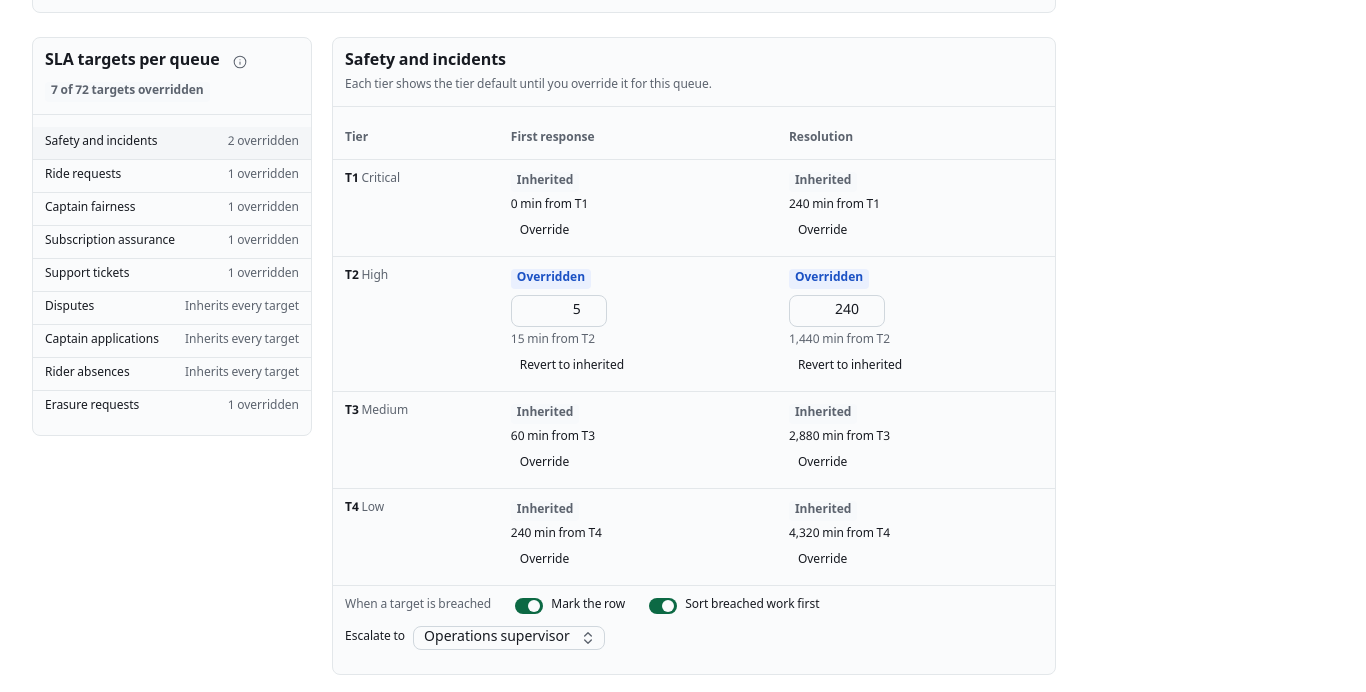
an inherited SLA target has no field to read back › renders text and an Override button, and no spinbutton
(page scrolled)
Click the button "Disputes Inherits every target" at (70, 308), box [33,292,311,324]
(page scrolled)
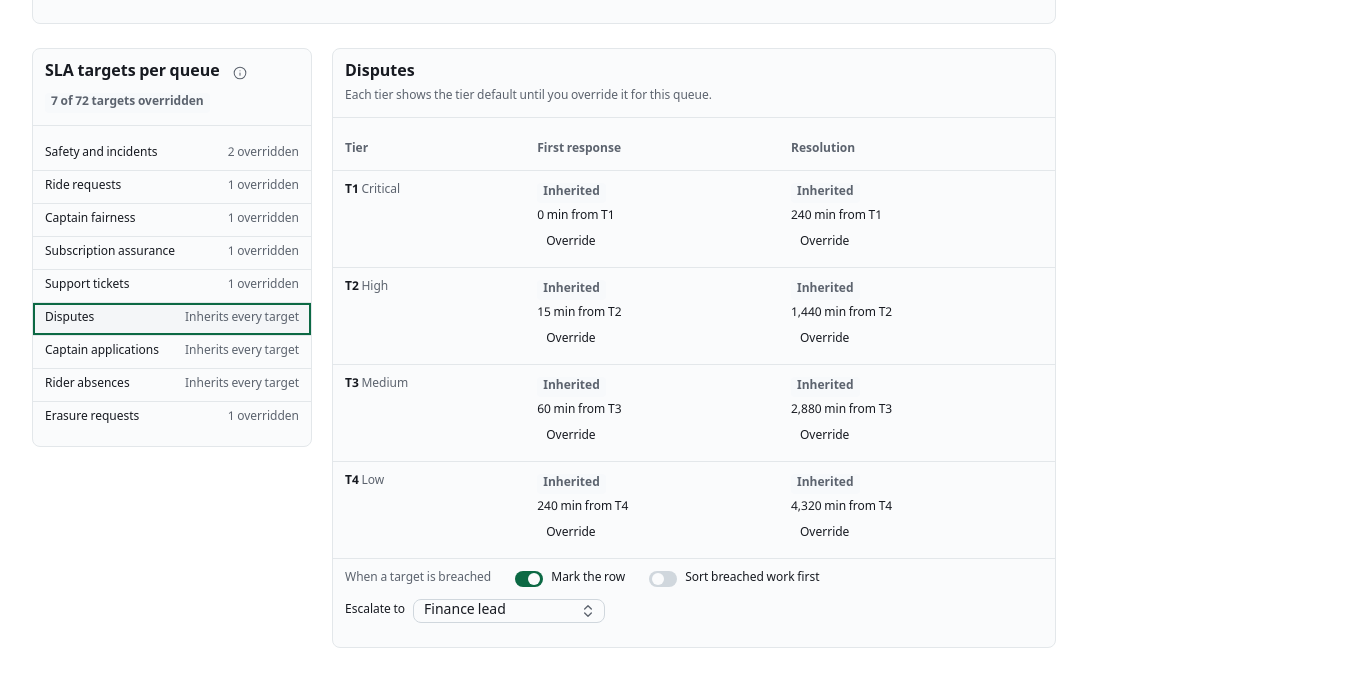
Expected: the 1st text "Inherited" is shown, [537,183,606,203]
Result: the button with aria-label "Override the resolution target for Disputes at T2" is shown at [791,328,858,352]
